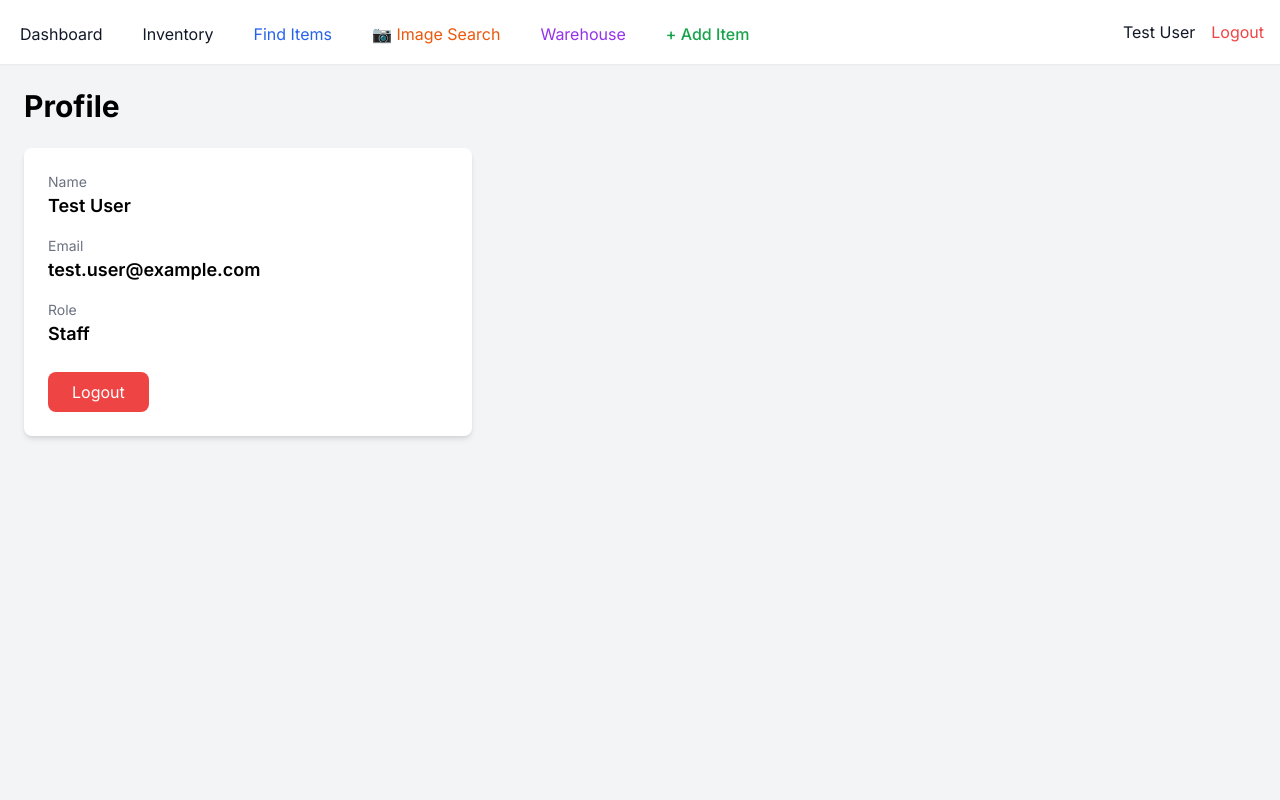
Scenario: logout › the profile page shows the user and its Logout clears the session
expect the heading "Profile" is shown: met, box [24,88,120,124]
expect the text "test.user@example.com" is shown: met, box [48,259,260,280]
Click the button "Logout" below "staff": [98, 392] box [48,372,149,412]
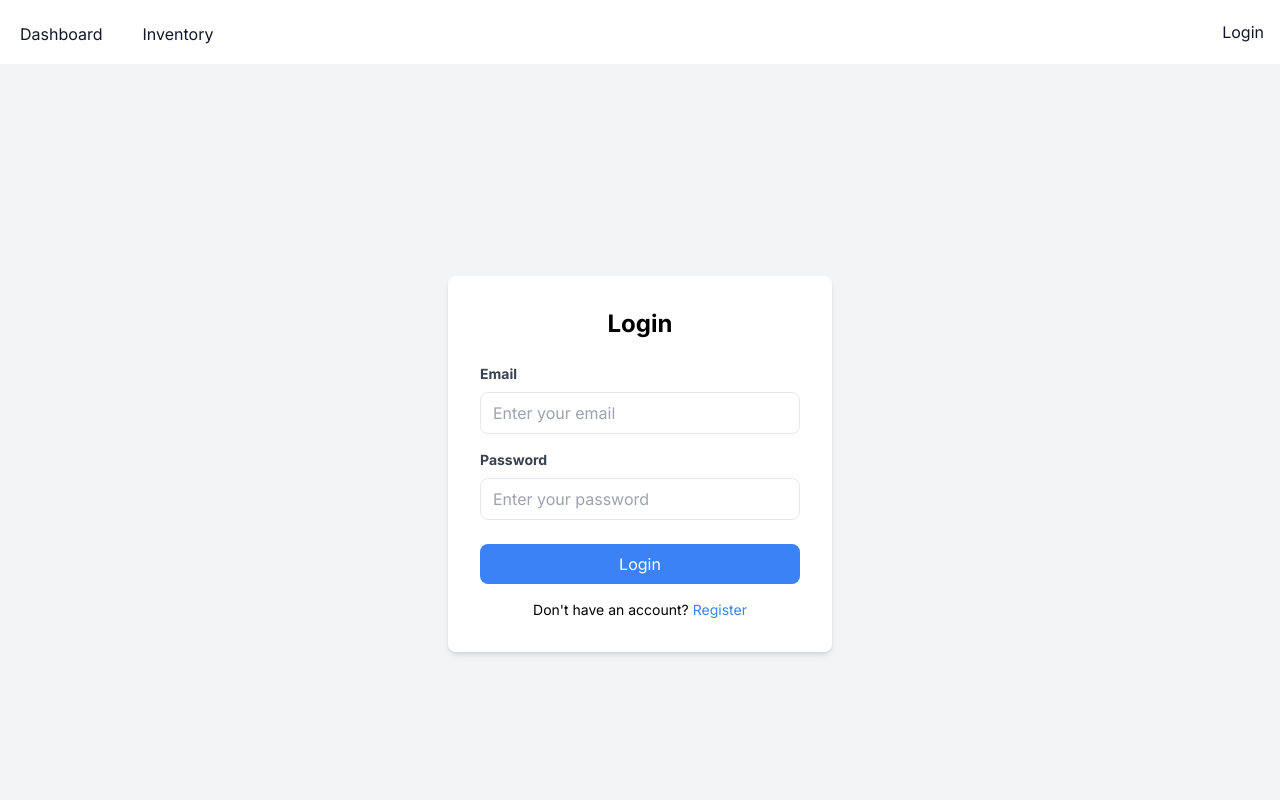
expect the heading "Login" is shown: met, box [608,309,672,338]
expect the link "Test User" is gone: met
